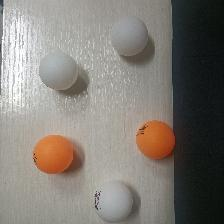WhiteBall: (92, 181, 133, 221), (37, 52, 77, 90), (111, 15, 148, 56)
YellowBall: (31, 132, 73, 174), (135, 119, 174, 160)
